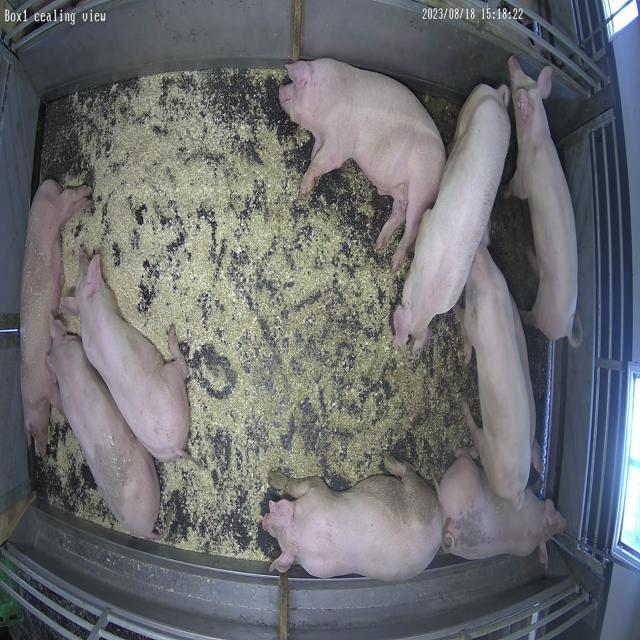Dirt: (316, 320, 480, 490), (326, 160, 385, 260), (491, 187, 539, 309), (528, 327, 555, 439), (418, 92, 462, 154)
Pig: (279, 58, 446, 270), (395, 84, 512, 350), (64, 255, 190, 462), (49, 320, 160, 538), (262, 456, 443, 582), (19, 179, 91, 456), (461, 244, 537, 506), (510, 58, 579, 340), (438, 452, 568, 564)
